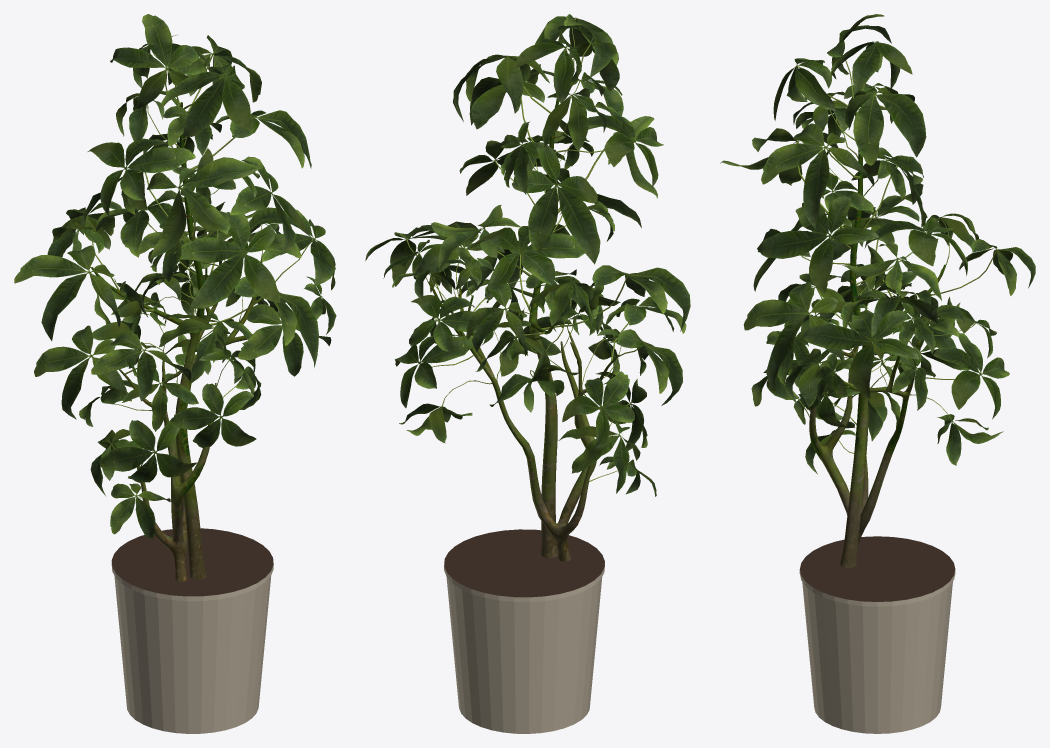
3 views of the same model, side by side, from view 1: azimuth 30°, elevation 25°; view 2: azimuth 150°, elevation 25°; view 3: azimuth 270°, elevation 25° (orthographic). The views are drawn at different scales.
Parts seen in each view (by area): view 1: pachira_aquatica_01_leaves_d, pot, pachira_aquatica_01_bark_d; view 2: pachira_aquatica_01_leaves_d, pot, pachira_aquatica_01_bark_d; view 3: pachira_aquatica_01_leaves_d, pot, pachira_aquatica_01_bark_d.
Boxes of the visible parts, box(x1,y1,x2,y2) form: pachira_aquatica_01_leaves_d: box(14, 14, 336, 538); pot: box(111, 528, 273, 733); pachira_aquatica_01_bark_d: box(91, 102, 262, 581); pachira_aquatica_01_leaves_d: box(365, 14, 690, 496); pot: box(444, 529, 604, 733); pachira_aquatica_01_bark_d: box(428, 99, 619, 561); pachira_aquatica_01_leaves_d: box(720, 14, 1035, 474); pot: box(799, 536, 955, 733); pachira_aquatica_01_bark_d: box(809, 112, 945, 567).
Size of the model in its own units: 0.7909 by 1.76 by 0.7482.
Materials: 4 (2 with a texture image).
